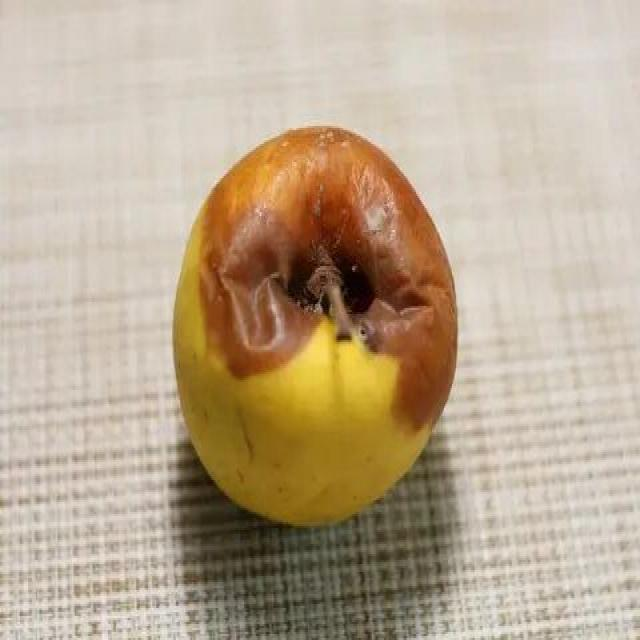Rotten: (158, 123, 462, 532)
